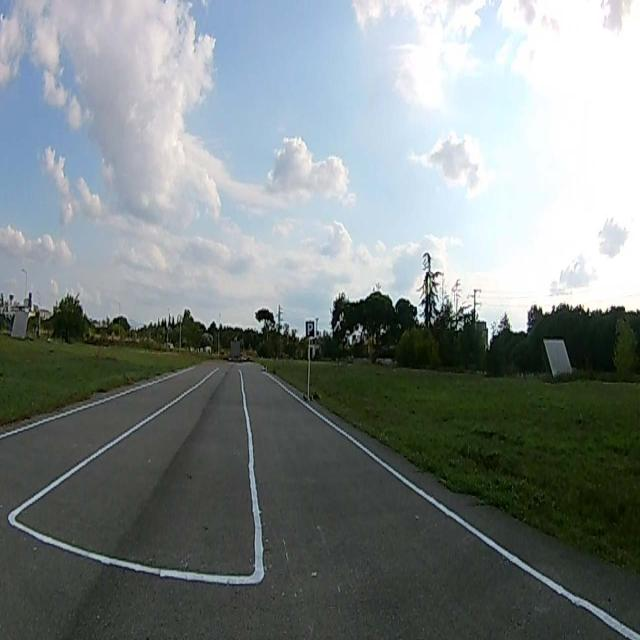park: (305, 322, 316, 338)
